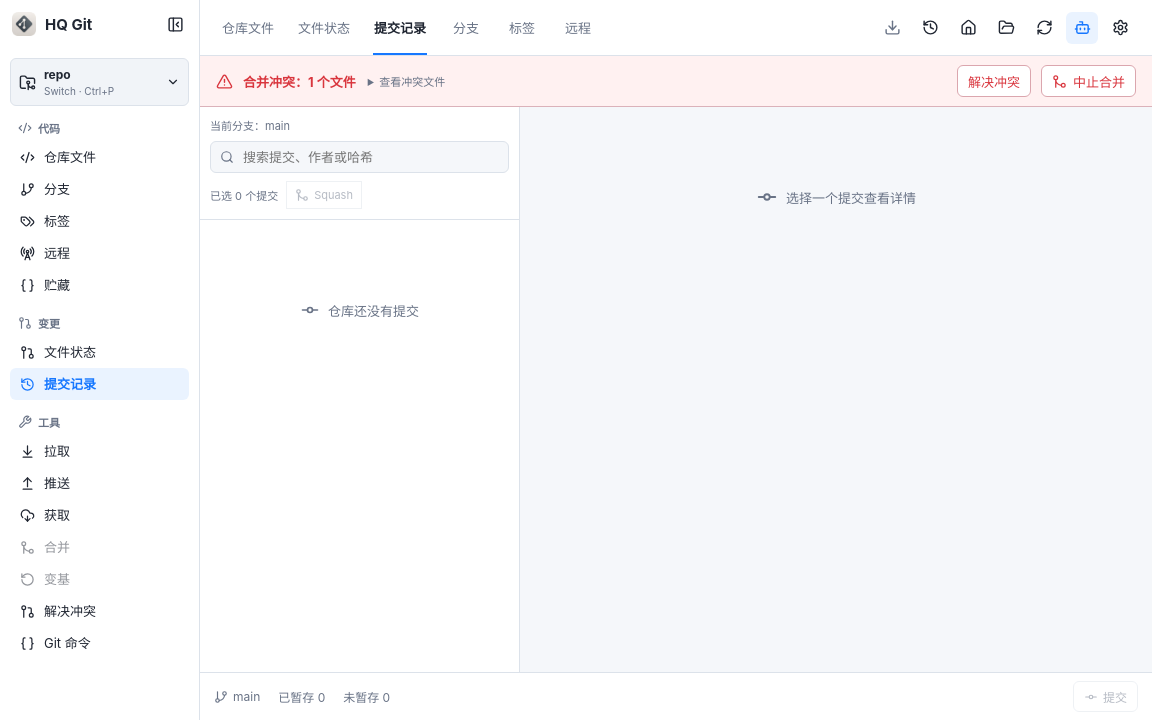
persists across modules and exposes only the matching abort
Click the button with aria-label "中止合并": {"x": 1088, "y": 81} [1041,65,1136,97]
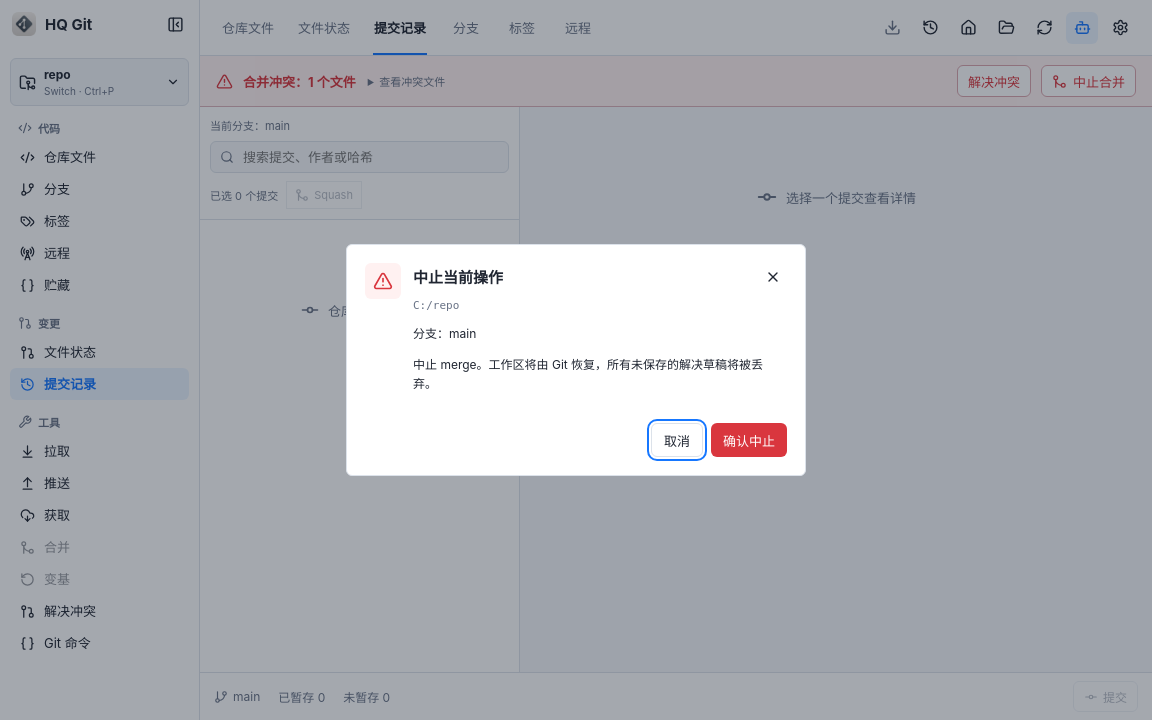
Expected: the dialog shows "草稿", [346,244,806,476]
Click the button with aria-label "确认中止": {"x": 749, "y": 440} [711,423,787,457]
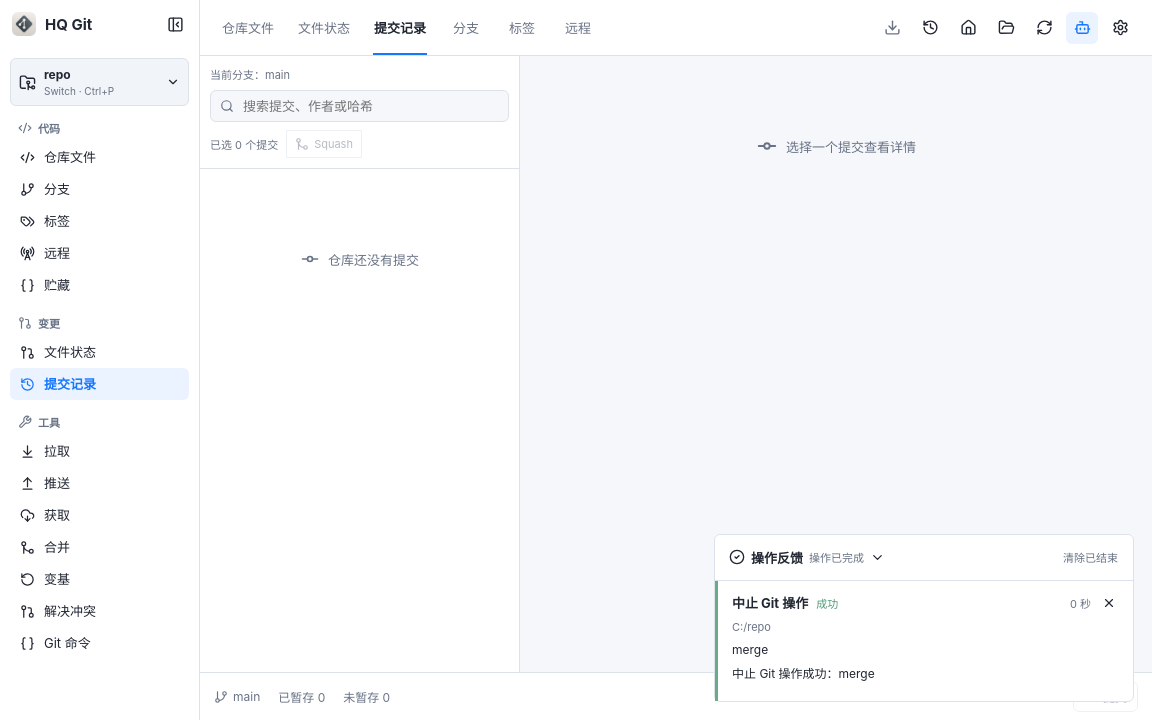
Expected: the text "合并冲突：1 个文件" is gone
